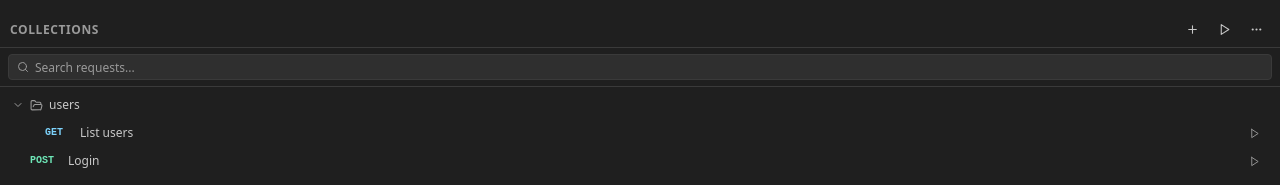
Scenario: CollectionTree search › filters by name and keeps the parent folder
In the field labelled "Search requests": (649, 67) [35,55,1263,79], type "login"
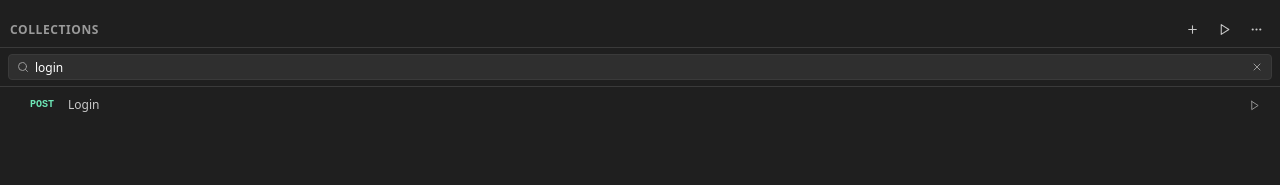
expect the text "Login" is shown: met, box [68,96,100,113]
expect the text "List users" is gone: met
expect the text "users" is gone: met
